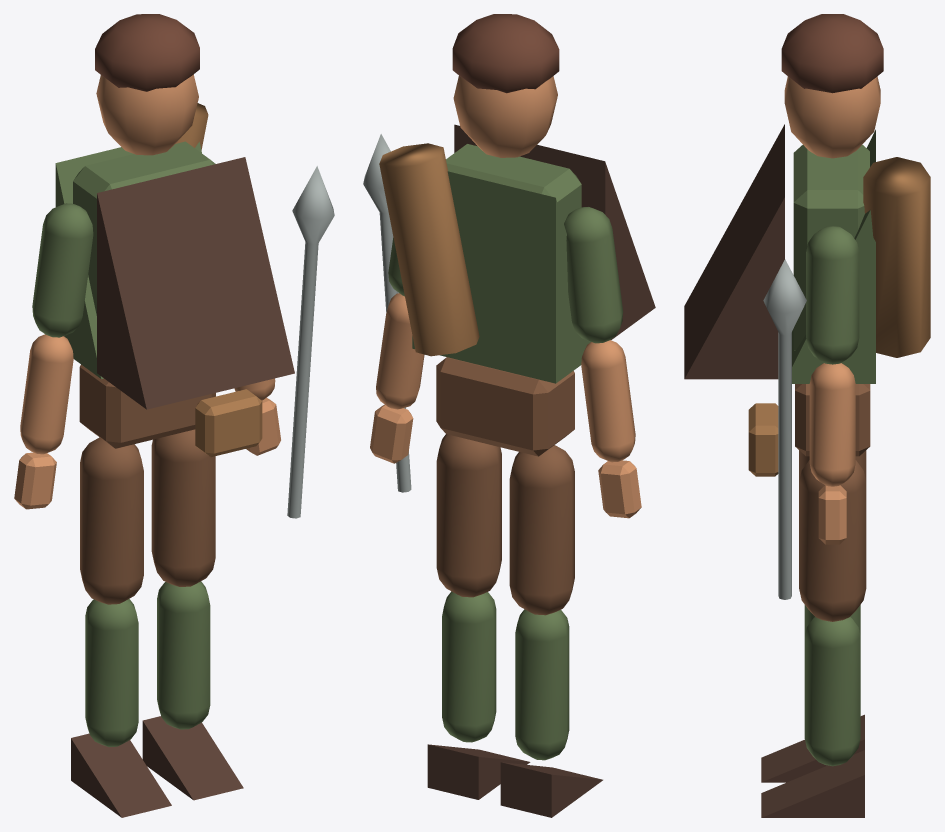
The model's file is adventurer.rustic.glb.
3 renders of one model, left to right at view 1: azimuth 30°, elevation 25°; view 2: azimuth 150°, elevation 25°; view 3: azimuth 270°, elevation 25°, orthographic.
Visible parts, largest first — view 1: accessory.body, thigh.left, thigh.right, shin.right, shin.left, hair, upper-arm.left, accessory.main-hand, head, pelvis, foot.right, foot.left (+7 smaller); view 2: tunic, accessory.back, pelvis, thigh.left, thigh.right, shin.left, shin.right, hair, upper-arm.left, head, accessory.body, forearm.left (+7 smaller); view 3: accessory.body, accessory.back, shin.right, thigh.right, torso, upper-arm.right, hair, head, accessory.main-hand, forearm.right, foot.right, tunic (+4 smaller).
Boxes of the visible parts, <box> form: accessory.body: <box>97,157,294,409</box>; thigh.left: <box>80,437,143,604</box>; thigh.right: <box>151,429,215,586</box>; shin.right: <box>157,581,210,729</box>; shin.left: <box>85,598,138,747</box>; hair: <box>95,14,199,91</box>; upper-arm.left: <box>32,203,93,337</box>; accessory.main-hand: <box>287,166,334,518</box>; head: <box>96,74,198,155</box>; pelvis: <box>79,364,215,448</box>; foot.right: <box>142,716,243,800</box>; foot.left: <box>71,733,171,817</box>; tunic: <box>412,171,590,383</box>; accessory.back: <box>379,143,479,356</box>; pelvis: <box>436,357,574,456</box>; thigh.left: <box>509,445,574,615</box>; thigh.right: <box>436,434,501,597</box>; shin.left: <box>515,609,569,760</box>; shin.right: <box>442,591,496,742</box>; hair: <box>452,14,559,93</box>; upper-arm.left: <box>564,207,623,343</box>; head: <box>453,76,557,157</box>; accessory.body: <box>454,124,655,339</box>; forearm.left: <box>581,340,635,462</box>; accessory.body: <box>684,124,784,379</box>; accessory.back: <box>863,157,930,357</box>; shin.right: <box>804,617,860,766</box>; thigh.right: <box>799,460,866,621</box>; torso: <box>793,144,869,350</box>; upper-arm.right: <box>806,226,859,364</box>; hair: <box>781,14,883,93</box>; head: <box>784,76,880,158</box>; accessory.main-hand: <box>763,259,806,599</box>; forearm.right: <box>809,363,855,486</box>; foot.right: <box>761,750,864,817</box>; tunic: <box>792,129,875,383</box>.
Bounding box in the file's own units: 1.22 × 3.03 × 0.88.
